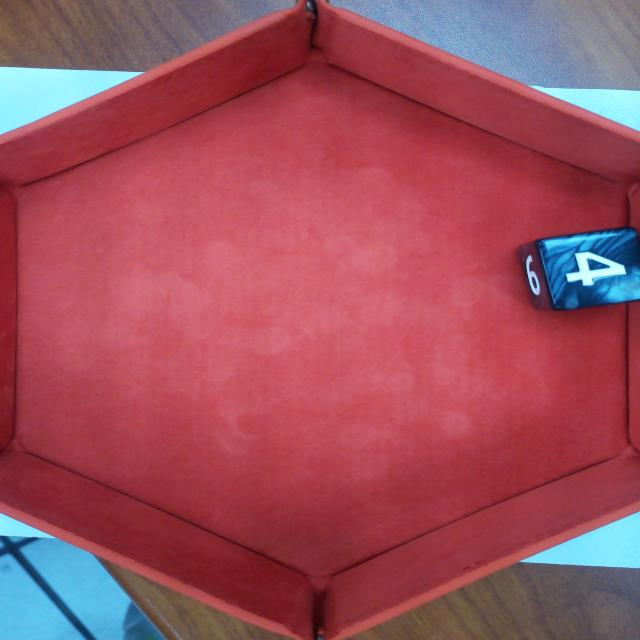dice: (535, 222, 640, 316)
